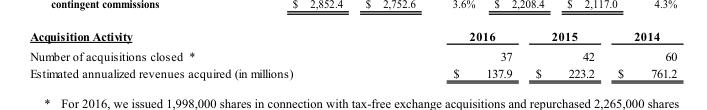table: (29, 28, 676, 79)
table column: (29, 28, 372, 79), (372, 28, 523, 79), (523, 28, 605, 79), (605, 28, 676, 79)
table column header: (29, 28, 676, 45)
table row: (29, 45, 676, 64), (29, 28, 676, 45), (29, 64, 676, 79)
